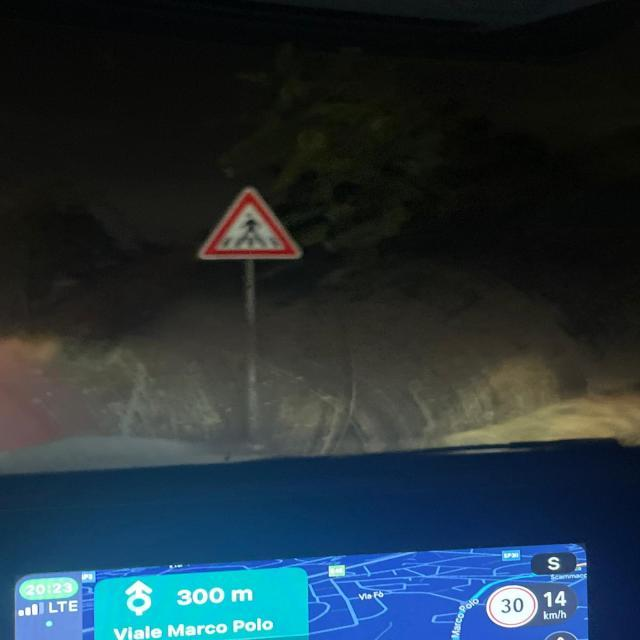warn_crosswalk: (198, 186, 304, 262)
